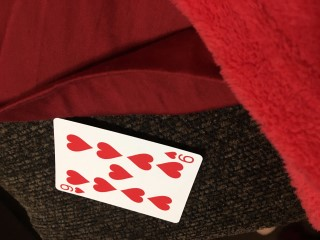NineOfHearts: (53, 118, 203, 224)
